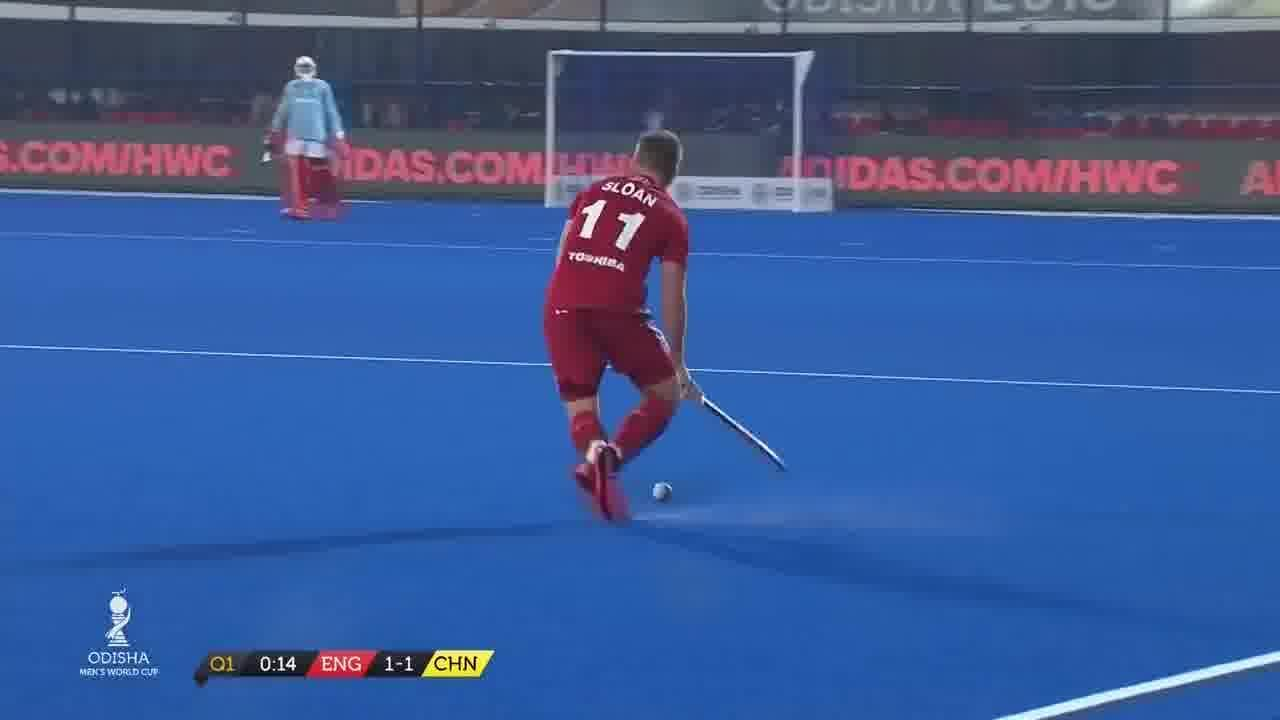ball: (650, 476, 678, 510)
